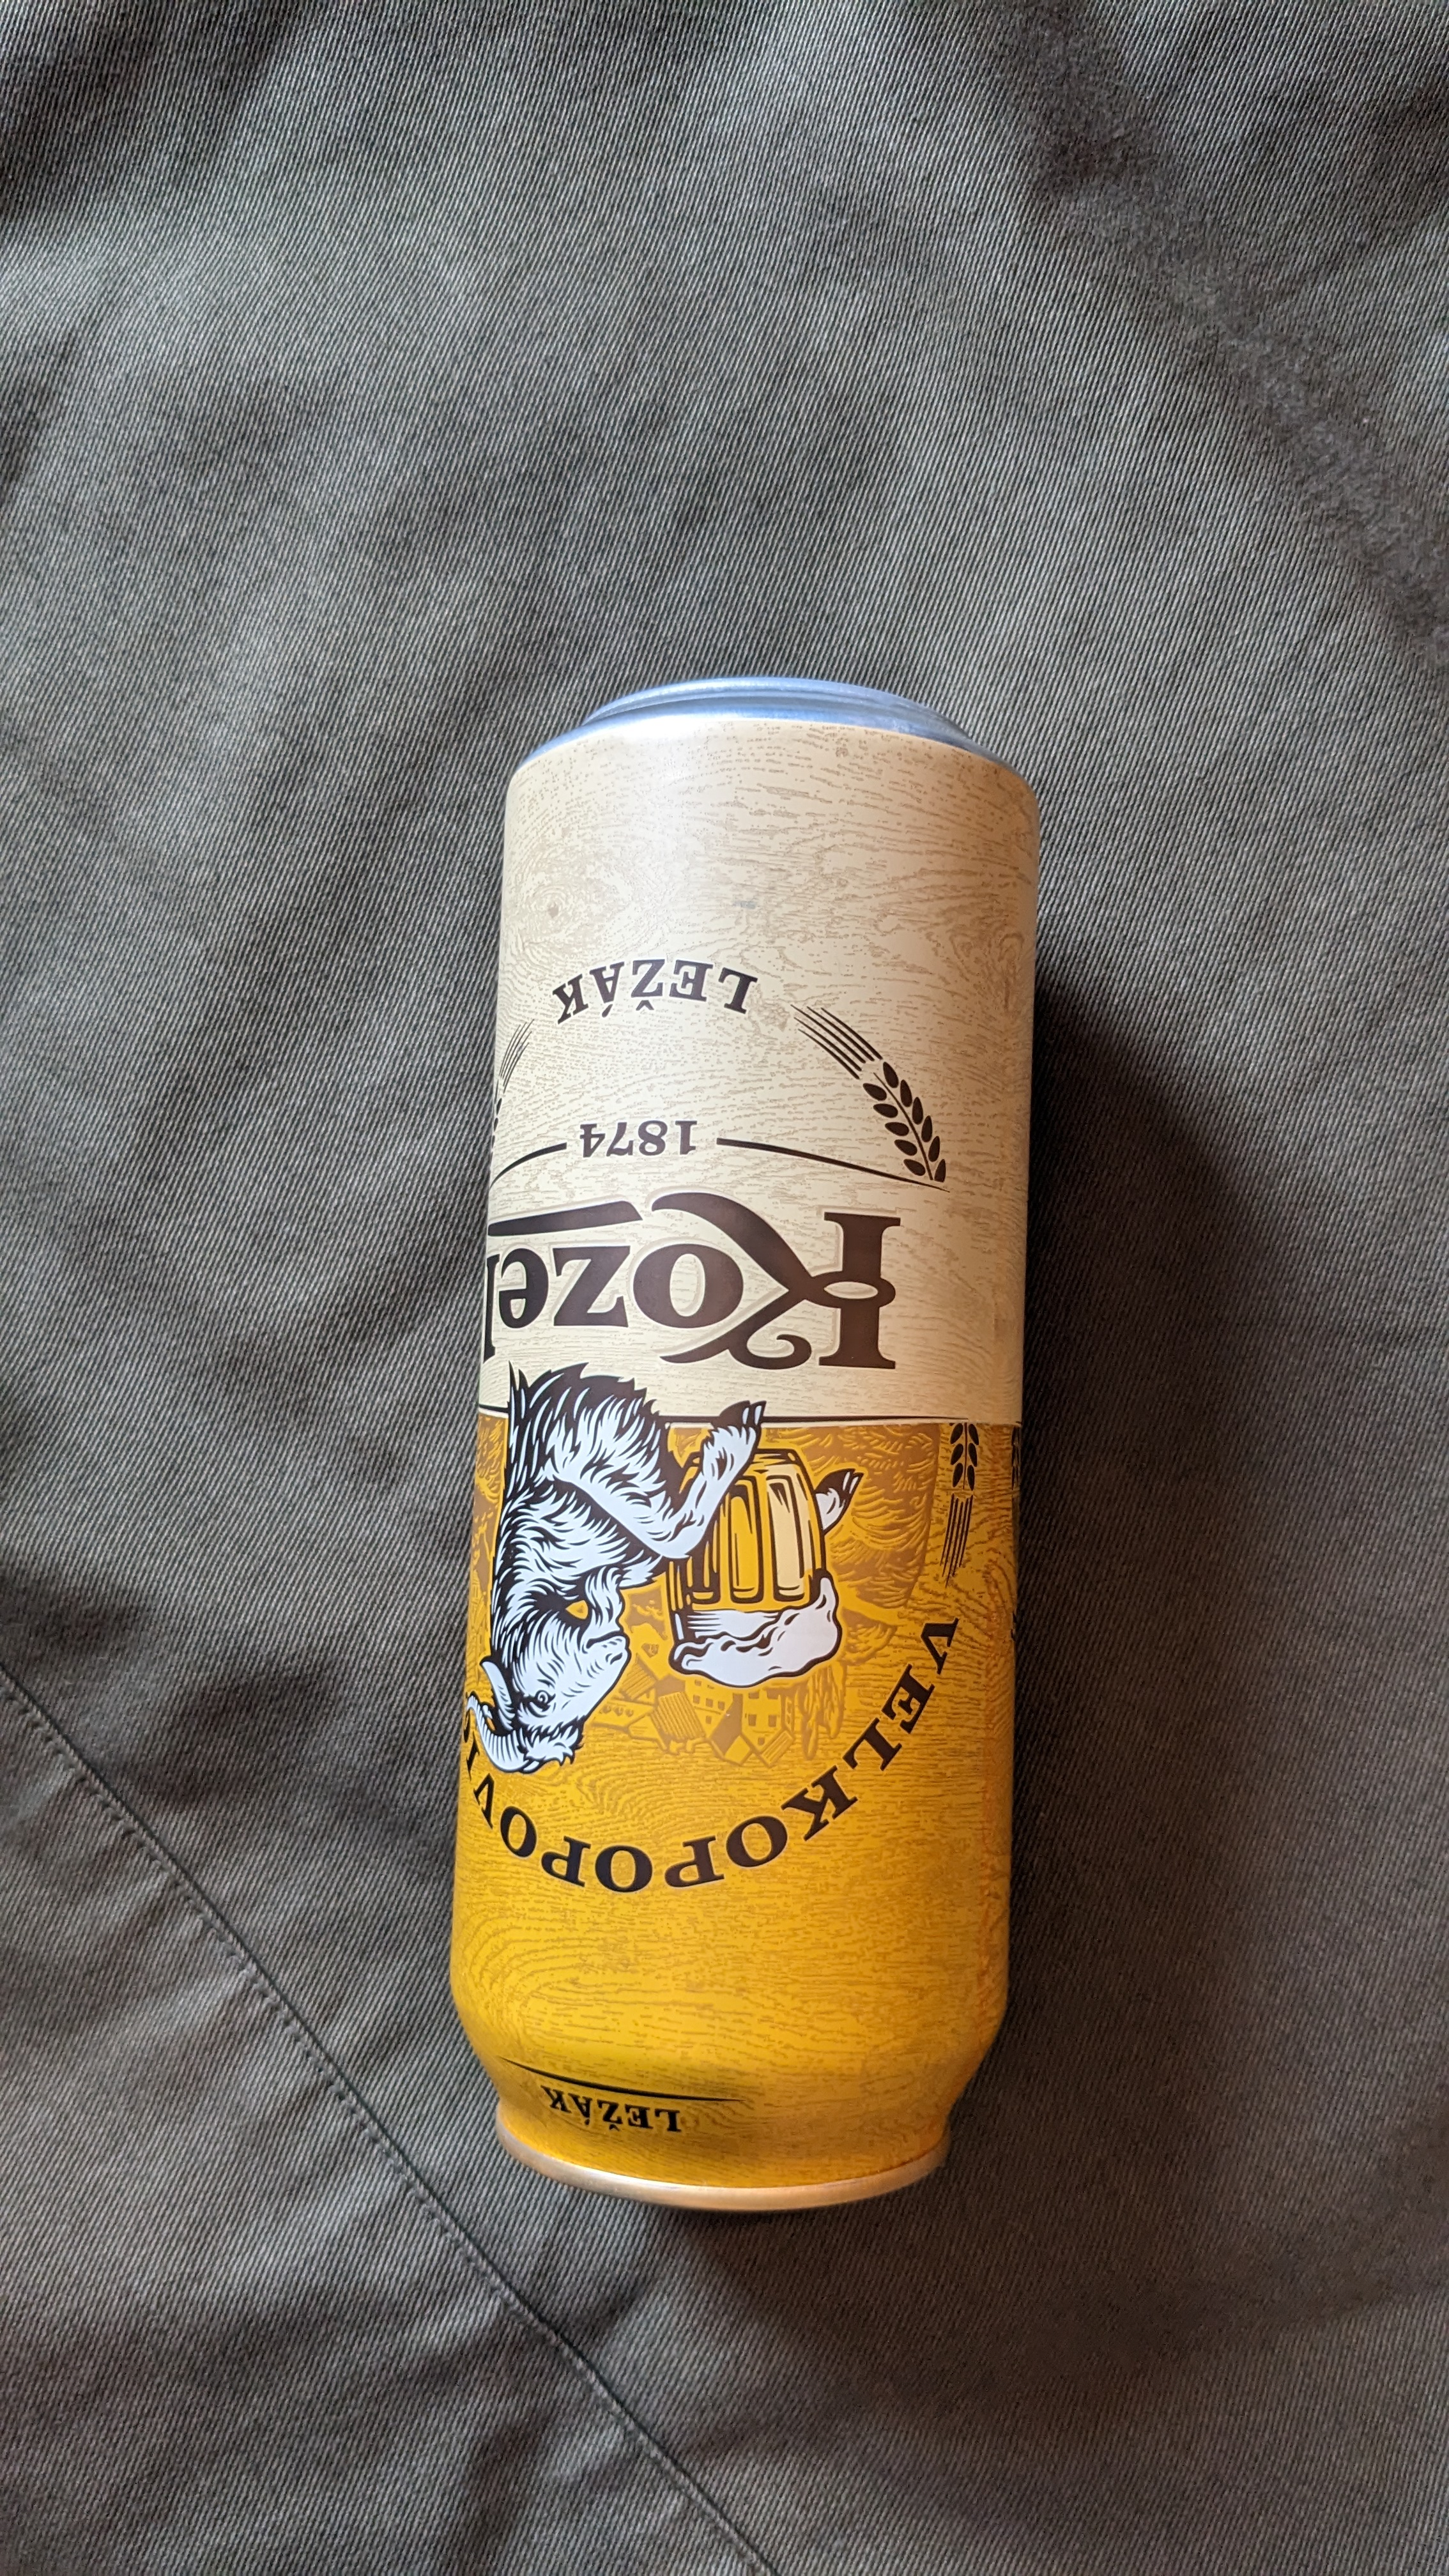kozel: (479, 646, 1030, 2235)
